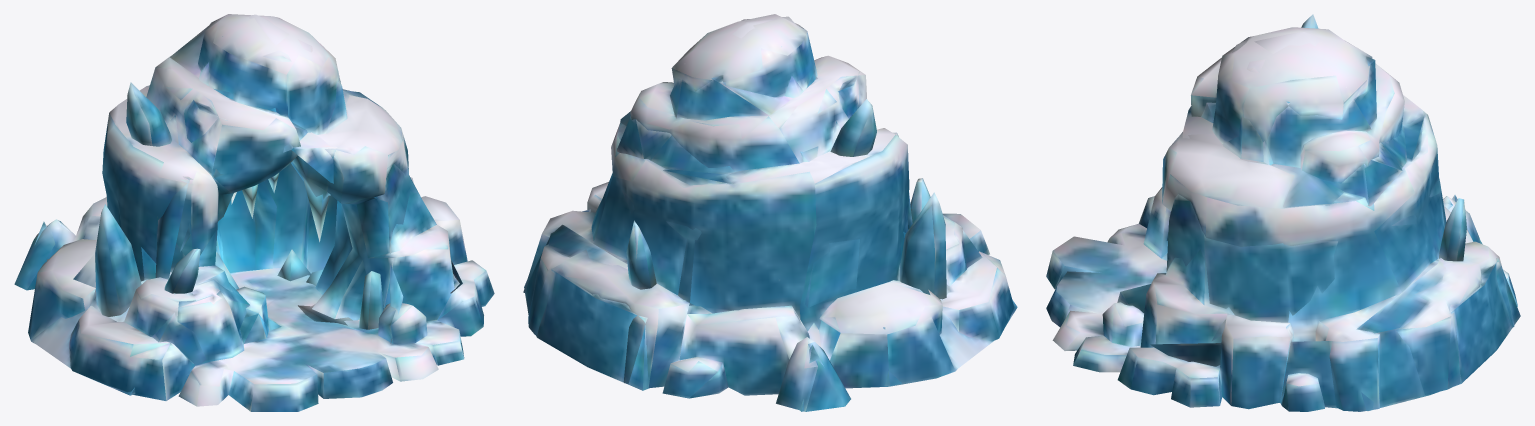
File: ice_cave_1_low.glb
The picture shows the model from 3 angles, left to right: view 1: azimuth 30°, elevation 25°; view 2: azimuth 150°, elevation 25°; view 3: azimuth 270°, elevation 25°; orthographic projection.
Parts seen in each view (by area): view 1: Mesh_0.006; view 2: Mesh_0.006; view 3: Mesh_0.006.
Boxes of the visible parts, left/top/right/bottom form: Mesh_0.006: left=14, top=14, right=494, bottom=411; Mesh_0.006: left=523, top=14, right=1017, bottom=411; Mesh_0.006: left=1046, top=14, right=1520, bottom=411.
Size of the model in its own units: 1 by 0.6738 by 1.
Materials: 1 (1 with a texture image).
